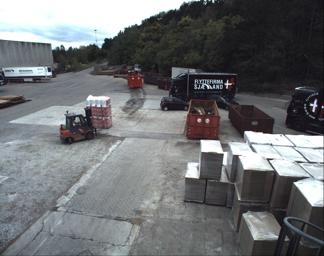rockwool_batts: (87, 94, 112, 127)
